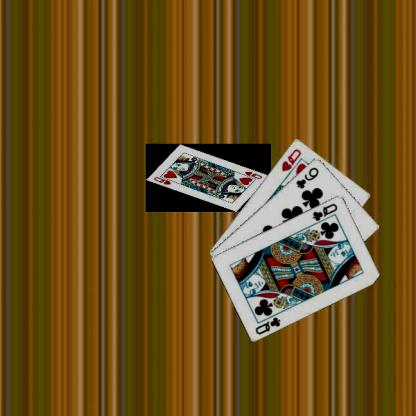9C: (293, 164, 320, 190)
QC: (309, 200, 339, 222), (252, 314, 282, 336)
QH: (278, 146, 302, 172)
